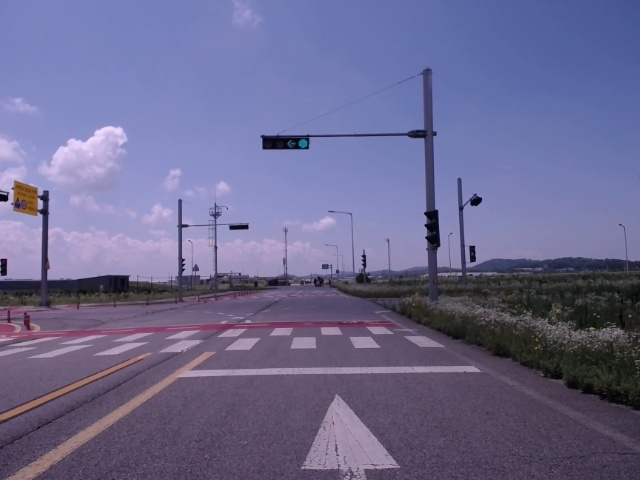all_green_4: (260, 134, 311, 148)
